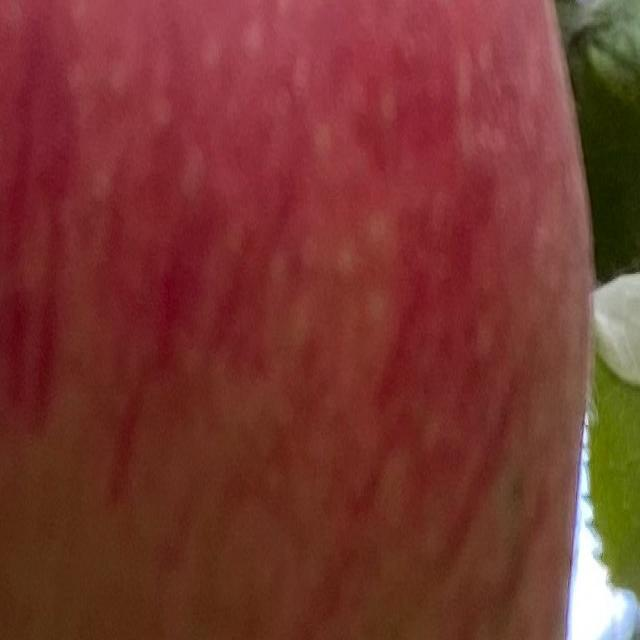Apples: (0, 0, 594, 638)
